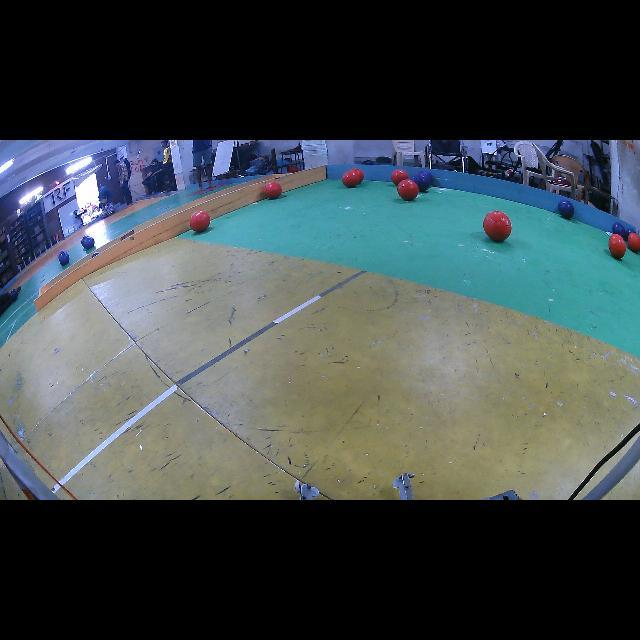P: (412, 172, 431, 192), (558, 200, 575, 219), (612, 222, 626, 239), (59, 252, 70, 266), (419, 170, 432, 181), (84, 236, 95, 249), (626, 229, 635, 239), (81, 235, 89, 246)
R: (484, 211, 511, 241), (398, 179, 419, 201), (190, 210, 210, 232), (609, 234, 626, 259), (342, 170, 360, 188), (265, 182, 282, 199), (391, 169, 409, 185), (628, 232, 640, 252), (351, 168, 364, 183)
